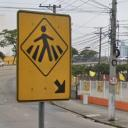speed_limit_50: (110, 77, 118, 85)
